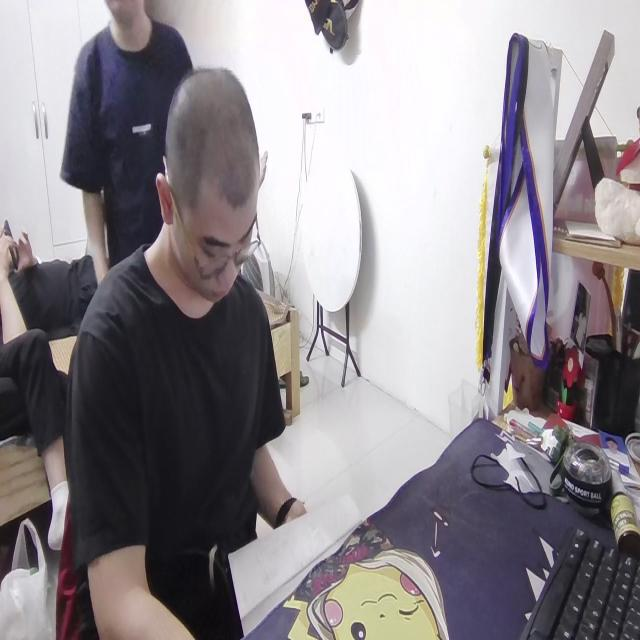book: (220, 487, 360, 636)
extra_person: (59, 0, 196, 284)
student: (58, 49, 312, 640)
